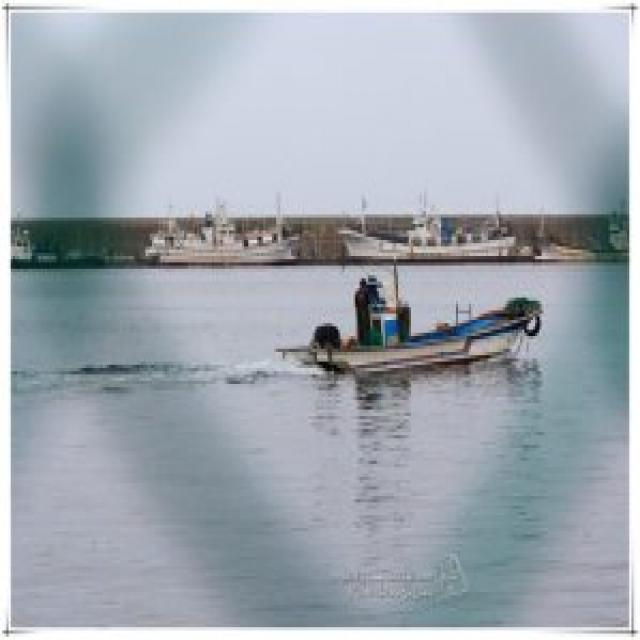Ship: (269, 270, 569, 392), (335, 177, 528, 273), (119, 183, 310, 273)
